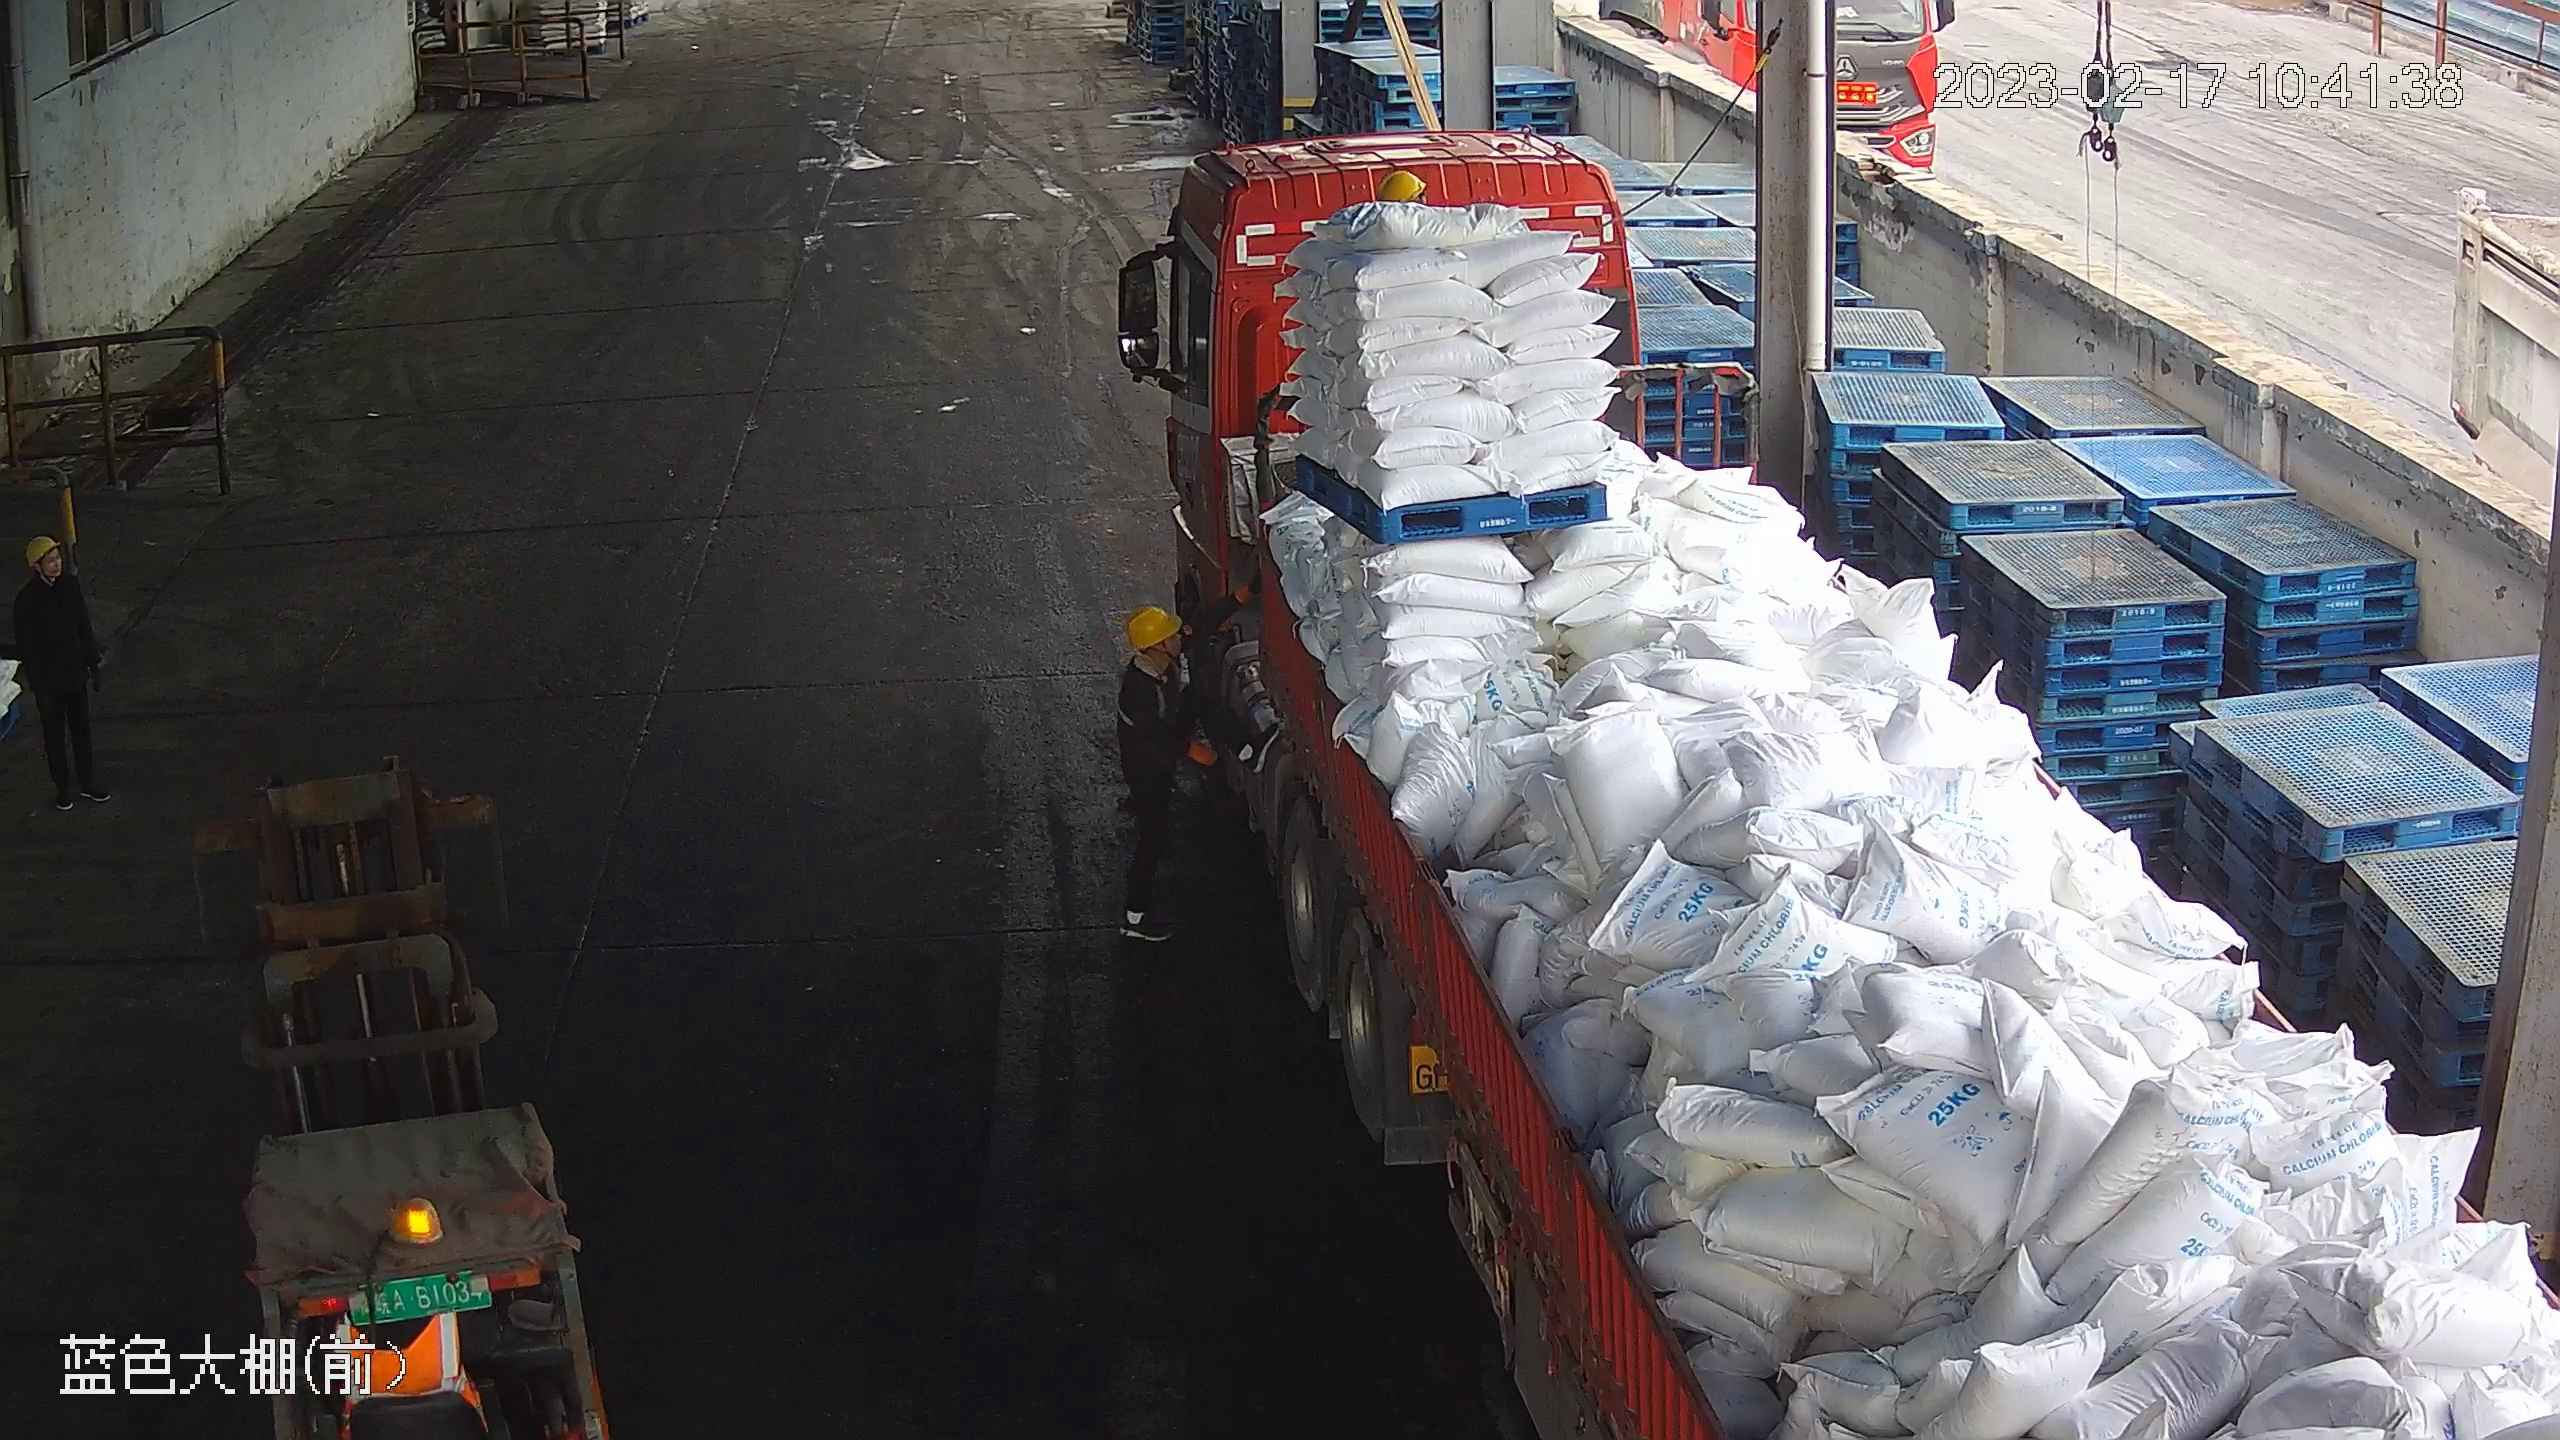head: (1112, 603, 1203, 716), (10, 532, 91, 618)
helmet: (1123, 603, 1180, 651), (1374, 166, 1425, 200), (24, 534, 61, 564)
people: (1106, 603, 1242, 948), (7, 531, 113, 812)
truck: (1122, 128, 2557, 1440)
